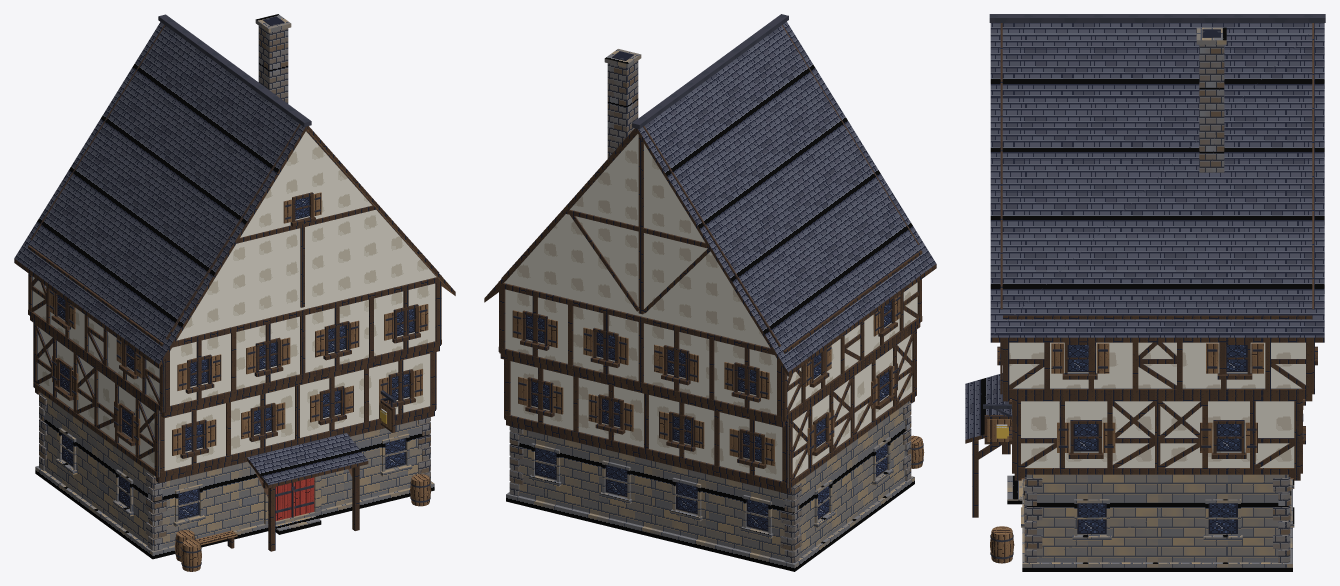
Rendered from tavern_2.glb.
The picture shows the model from 3 angles, left to right: view 1: azimuth 30°, elevation 25°; view 2: azimuth 150°, elevation 25°; view 3: azimuth 270°, elevation 25°; orthographic projection. The views are drawn at different scales.
Parts seen in each view (by area): view 1: tavern_3; view 2: tavern_3; view 3: tavern_3.
Part boxes in pixels (x1=…): tavern_3: x1=14, y1=14, x2=455, y2=571; tavern_3: x1=484, y1=14, x2=936, y2=571; tavern_3: x1=965, y1=14, x2=1325, y2=571.
Size of the model in its own units: 11.3 by 15.6 by 10.31.
Materials: 16 (16 with a texture image).
